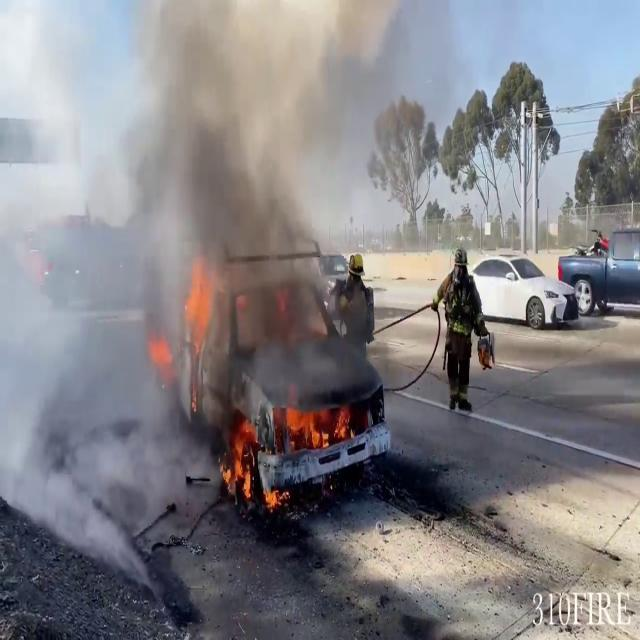Fire: (283, 396, 354, 458), (221, 412, 257, 508)
Smoke: (0, 0, 356, 548)
